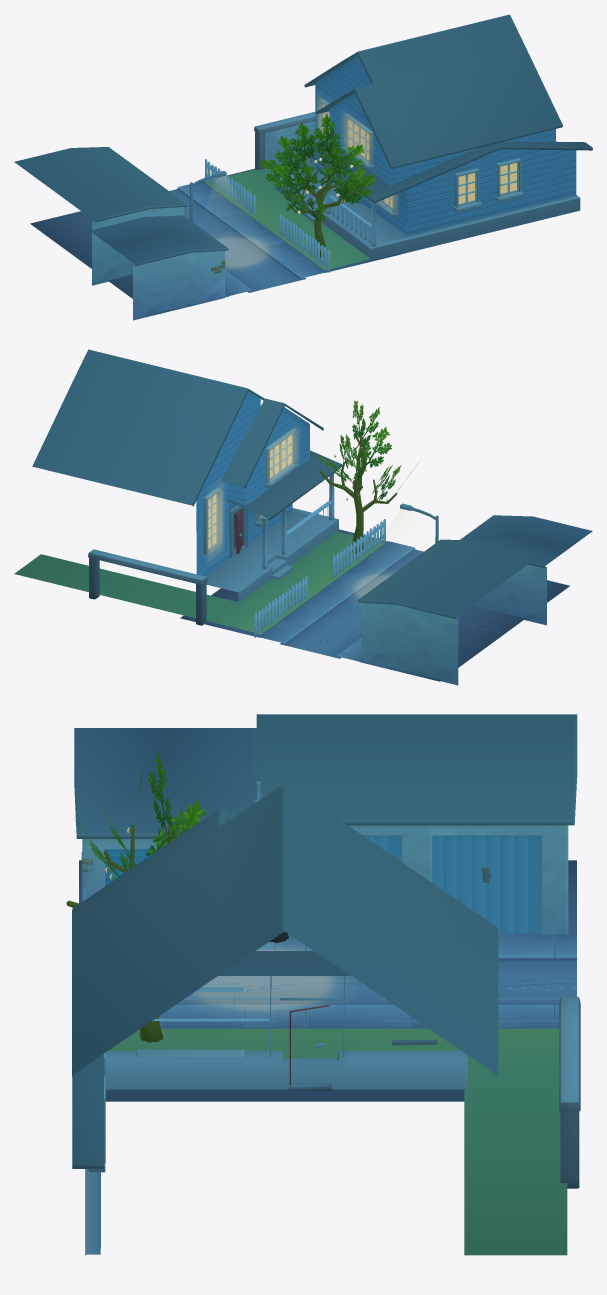
Rendered from SuburbsHouse03.prefab.glb.
3 views of the same model, one above another, from view 1: azimuth 30°, elevation 25°; view 2: azimuth 150°, elevation 25°; view 3: azimuth 270°, elevation 25° (orthographic). The views are drawn at different scales.
Parts seen in each view (by area): view 1: House, Garage06, Garage03, Tree01, SuburbsHouse03, Road02, PlasteredWall01 (2), LightPool, WoodFence02 (4), WoodFence02 (3), LightGlowPlane; view 2: House, Garage06, Road02, Garage03, SuburbsHouse03, Tree01, PlasteredWall01 (2), WoodFence02 (4), WoodFence02 (3), LightGlowPlane (2), LightGlowPlane, LightPool; view 3: House, Garage06, Garage03, Road02, SuburbsHouse03, PlasteredWall01 (2), LightPool, Tree01.
Part boxes in pixels (left/top/right/bottom): House: left=206, top=14, right=592, bottom=270; Garage06: left=14, top=147, right=187, bottom=285; Garage03: left=89, top=215, right=228, bottom=320; Tree01: left=259, top=114, right=374, bottom=257; SuburbsHouse03: left=108, top=227, right=400, bottom=314; Road02: left=30, top=168, right=264, bottom=268; PlasteredWall01 (2): left=254, top=112, right=315, bottom=169; LightPool: left=216, top=236, right=269, bottom=267; WoodFence02 (4): left=279, top=213, right=330, bottom=272; WoodFence02 (3): left=205, top=159, right=255, bottom=215; LightGlowPlane: left=343, top=114, right=370, bottom=164; House: left=14, top=349, right=384, bottom=634; Garage06: left=358, top=539, right=539, bottom=685; Road02: left=180, top=588, right=504, bottom=681; Garage03: left=460, top=515, right=592, bottom=625; SuburbsHouse03: left=323, top=529, right=569, bottom=633; Tree01: left=316, top=400, right=413, bottom=553; PlasteredWall01 (2): left=88, top=549, right=207, bottom=625; WoodFence02 (4): left=332, top=519, right=385, bottom=577; WoodFence02 (3): left=254, top=576, right=307, bottom=637; LightGlowPlane (2): left=207, top=486, right=223, bottom=557; LightGlowPlane: left=268, top=429, right=297, bottom=481; LightPool: left=353, top=573, right=391, bottom=598; House: left=72, top=783, right=567, bottom=1255; Garage06: left=256, top=714, right=577, bottom=934; Garage03: left=74, top=728, right=256, bottom=901; Road02: left=328, top=860, right=576, bottom=1101; SuburbsHouse03: left=79, top=860, right=327, bottom=1101; PlasteredWall01 (2): left=559, top=996, right=580, bottom=1188; LightPool: left=192, top=948, right=334, bottom=1011; Tree01: left=66, top=753, right=206, bottom=1042.
Size of the model in its own units: 38.2 by 13.22 by 20.04.
Materials: 8 (7 with a texture image).
